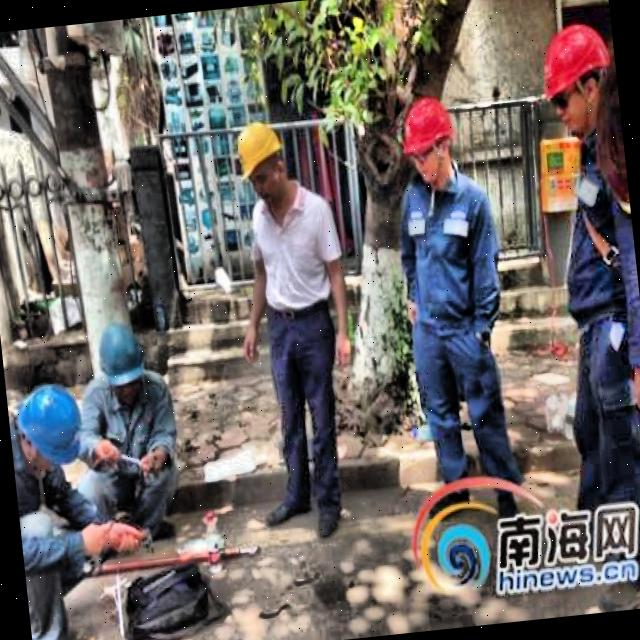helmet: (531, 16, 619, 143), (9, 377, 90, 476), (392, 87, 462, 192), (228, 113, 294, 210), (88, 312, 153, 401)
